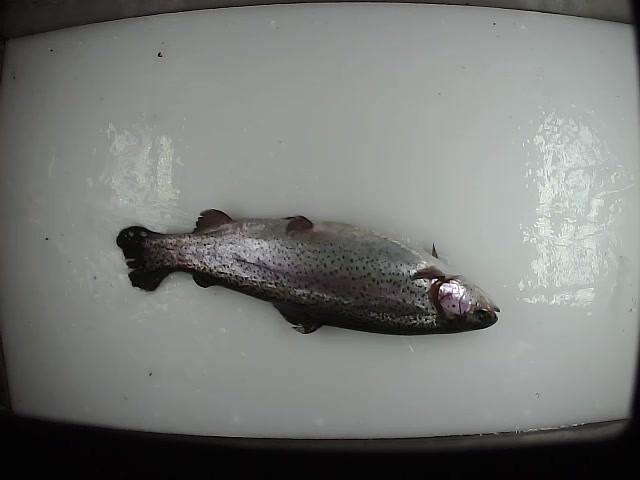fish: (115, 205, 500, 335)
